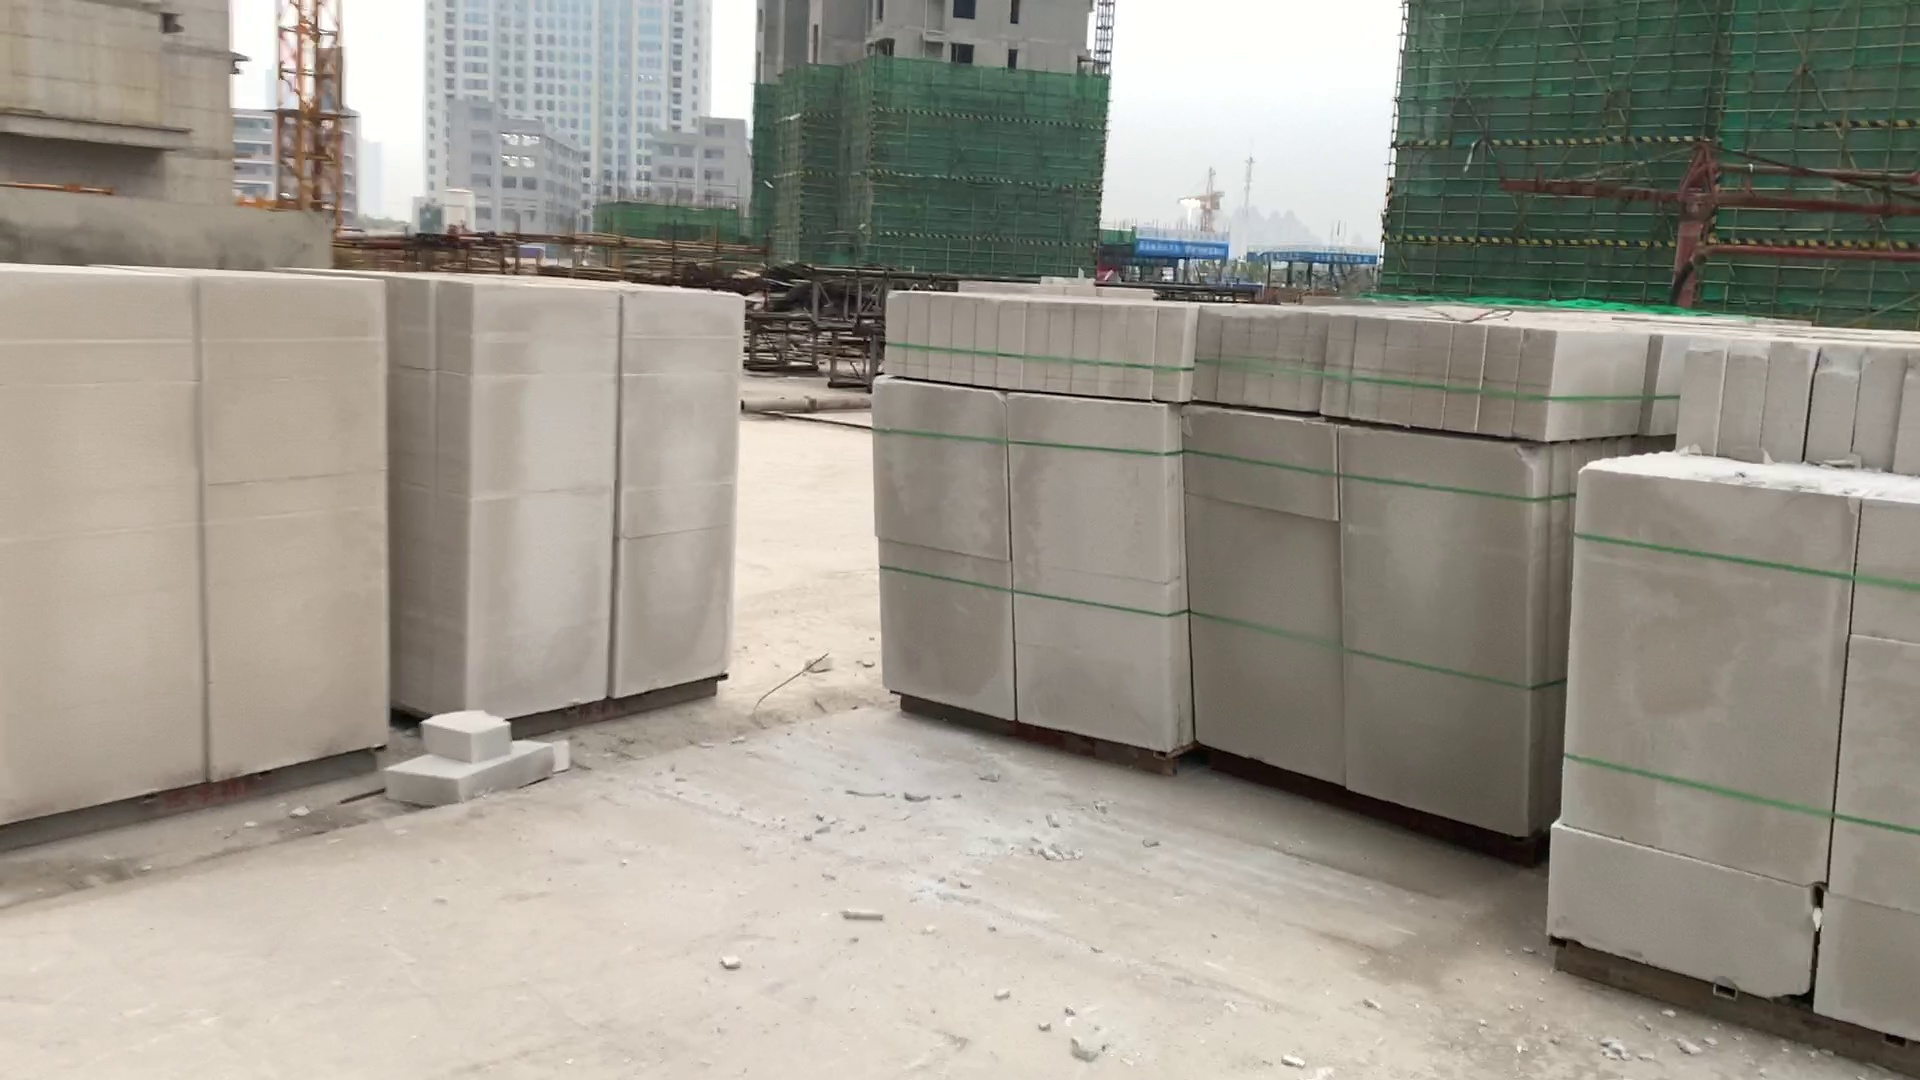brickwork: (1561, 345, 1920, 1042), (3, 272, 392, 822), (1192, 305, 1547, 837), (874, 287, 1187, 762), (393, 276, 738, 704)
